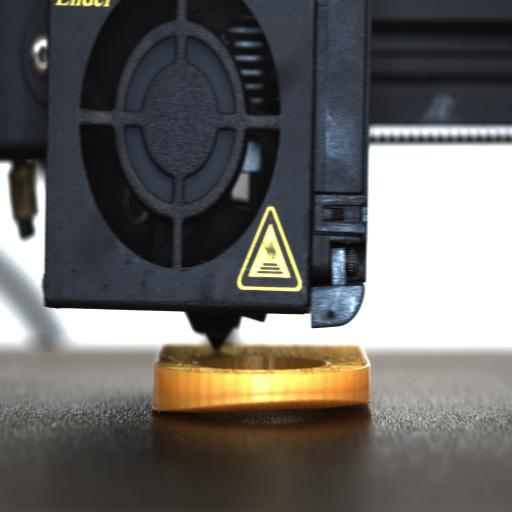warp: (153, 391, 373, 424)
